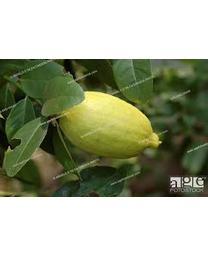lemon: (58, 90, 162, 156)
